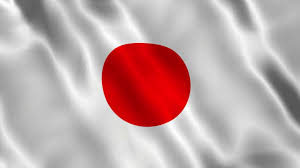Japanese Flag: (1, 1, 300, 167)
